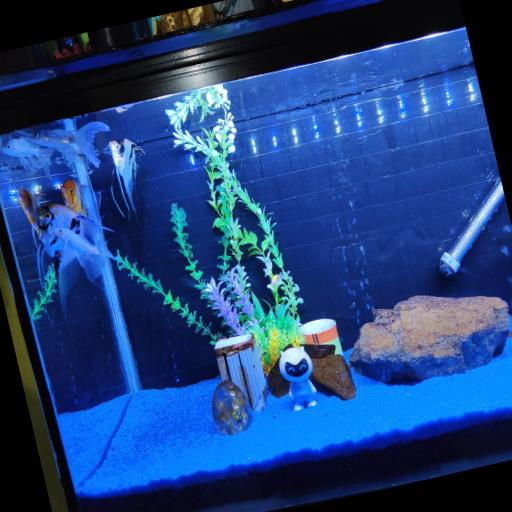Fish: (38, 204, 114, 316), (30, 122, 109, 167), (53, 228, 115, 282), (38, 204, 111, 240), (109, 139, 144, 211), (2, 137, 54, 178), (61, 180, 92, 216), (61, 179, 87, 216), (19, 189, 40, 233)
